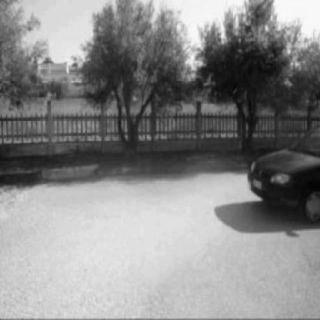other: (240, 131, 318, 211)
